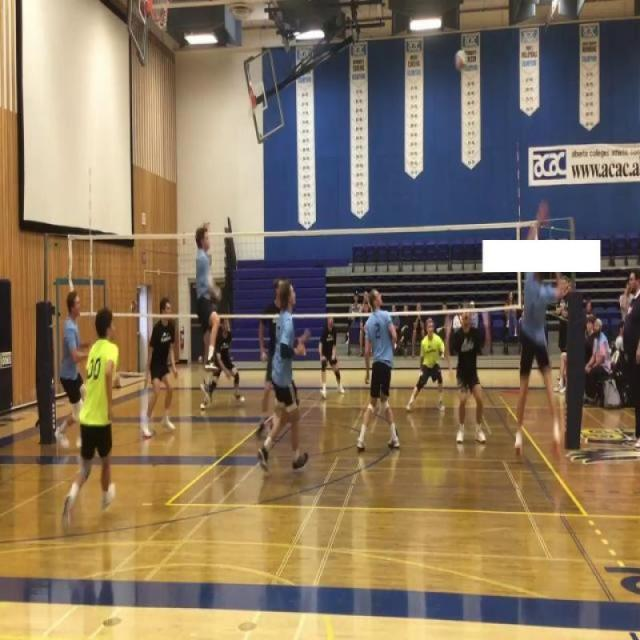volleyball: (454, 49, 468, 72)
